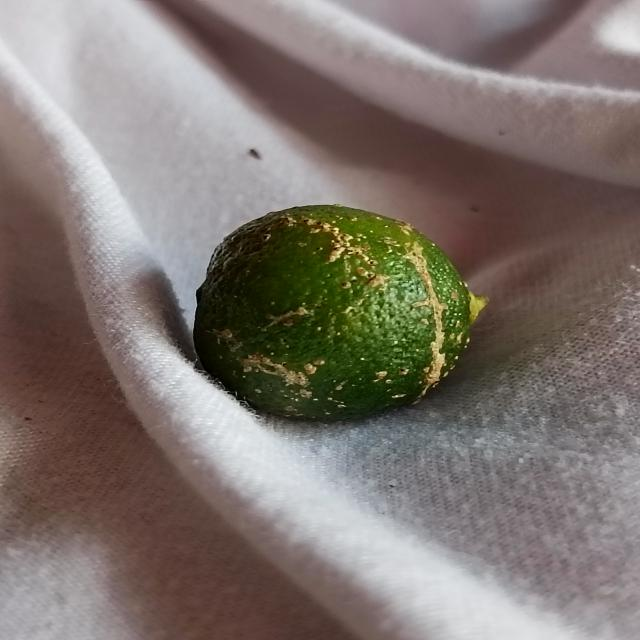scab: (189, 198, 472, 416)
